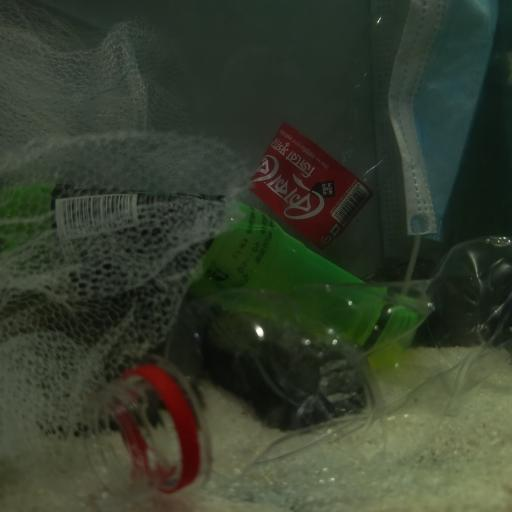mask: (388, 0, 512, 247)
net: (0, 0, 241, 512)
plastic_bottle: (93, 234, 512, 496), (0, 183, 417, 372), (244, 3, 392, 241)
